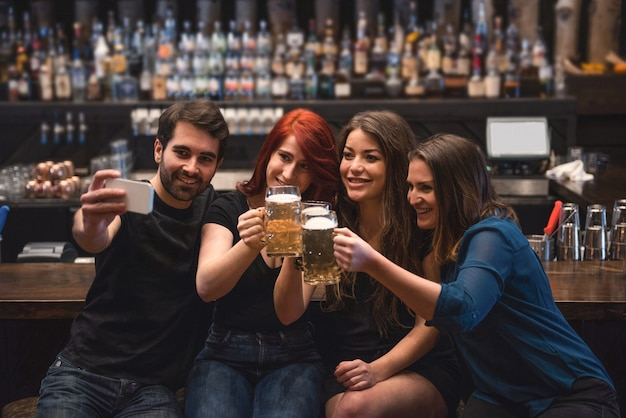alcohol: (295, 206, 350, 287), (261, 184, 309, 259)
